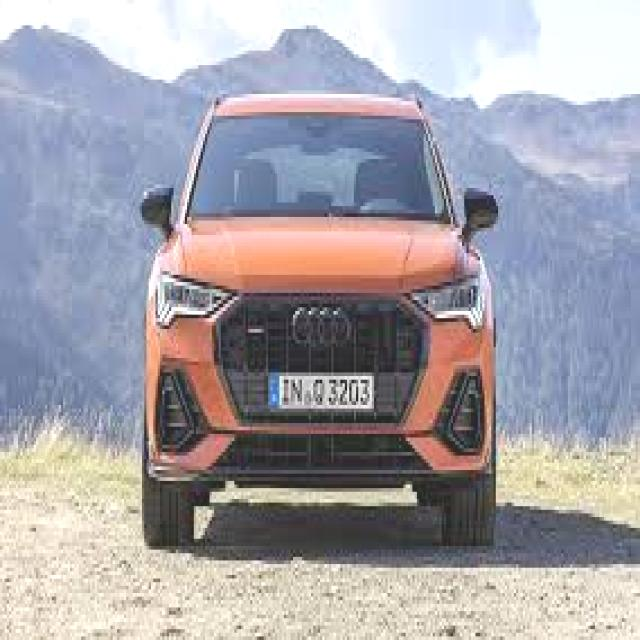SUV: (135, 91, 501, 550)
